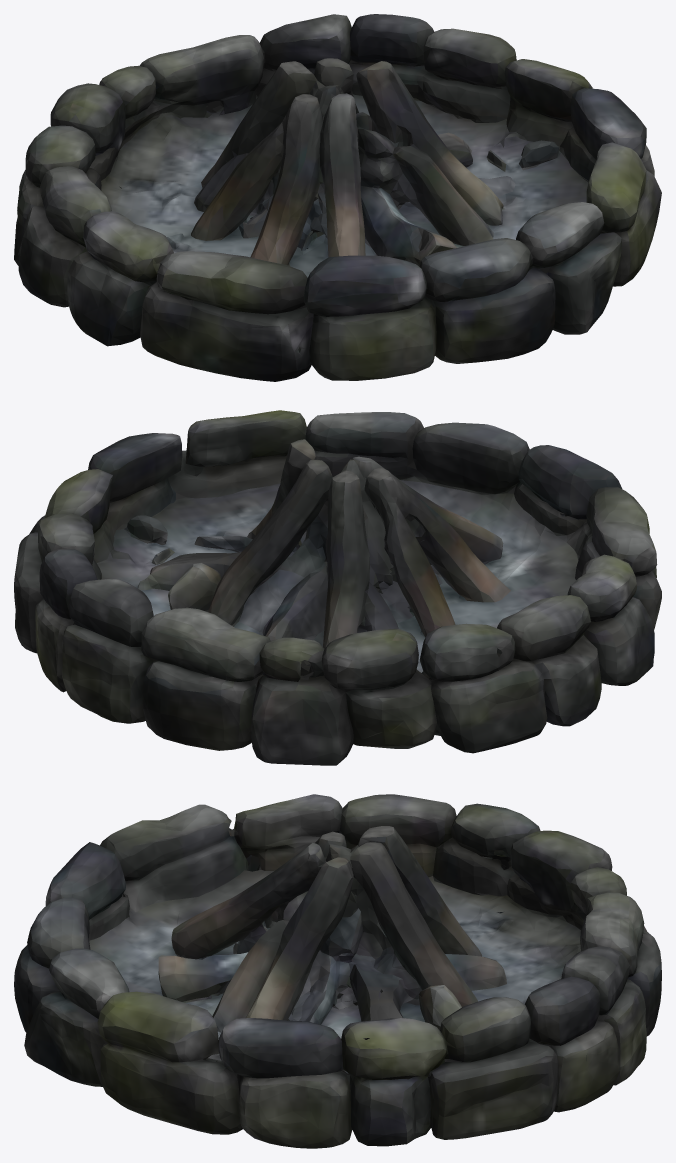
The model's file is campfire.glb.
3 views of the same model, one above another, from view 1: azimuth 30°, elevation 25°; view 2: azimuth 150°, elevation 25°; view 3: azimuth 270°, elevation 25° (orthographic).
Visible parts, largest first — view 1: world; view 2: world; view 3: world.
Boxes of the visible parts, box(x1,y1,x2,y2) form: world: box(14, 14, 661, 381); world: box(14, 410, 661, 765); world: box(14, 794, 661, 1148).
Size of the model in its own units: 0.9968 by 0.3066 by 0.9824.
Materials: 1 (1 with a texture image).
